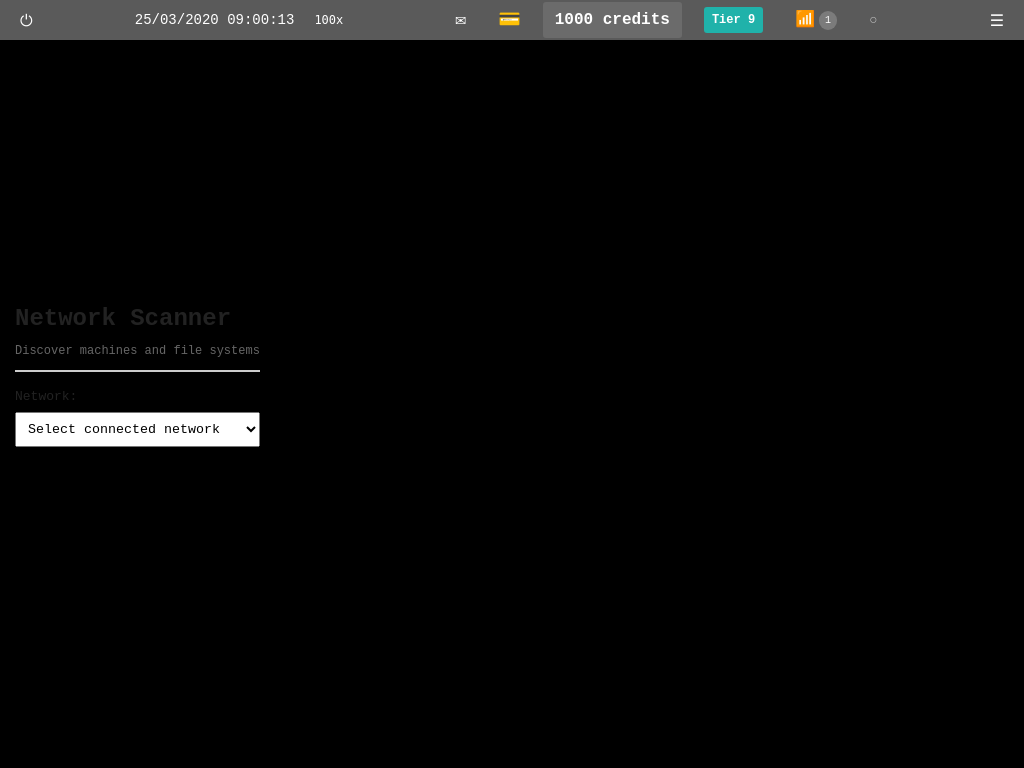
it: Network Scanner Integration › should discover devices from connected network
expect the text titled "Click to open Banking App" shows "credits": met, box [593,11,670,29]
expect the heading "Network Scanner" is shown: met, box [15,301,260,337]
# Select the network
Select "Corporate Network" in the dropdown labelled "Network:" at (137, 429), box [15,412,260,447]
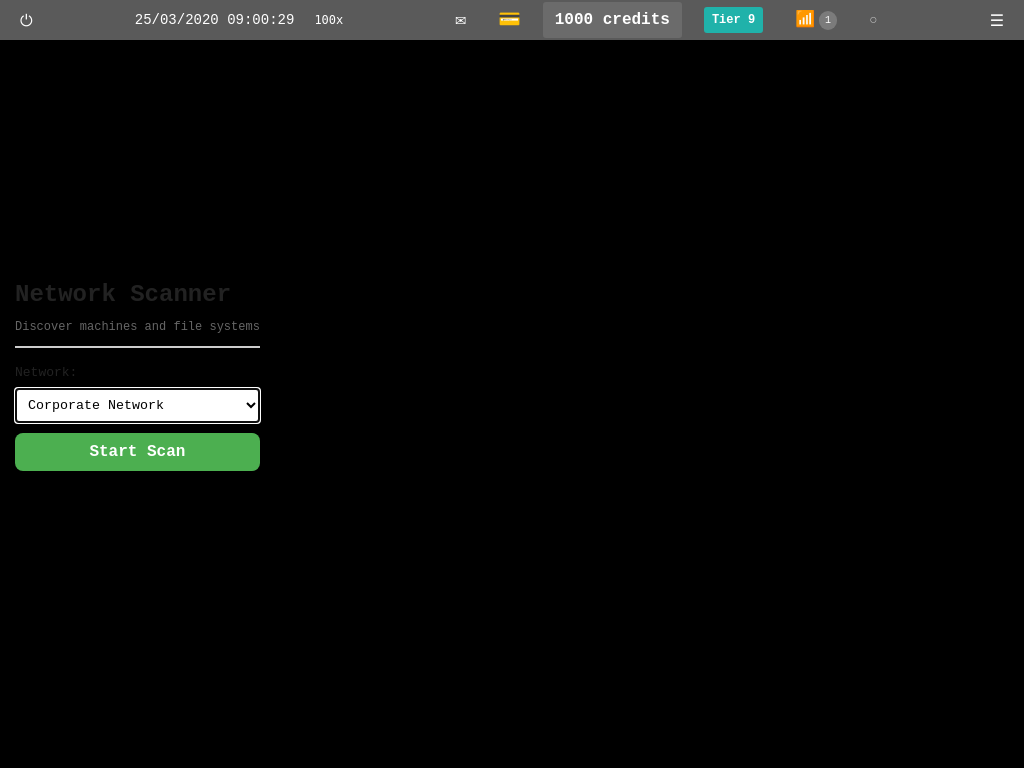
# Start scan
Click the button "Start Scan".
click(137, 452)  # box [15,433,260,471]
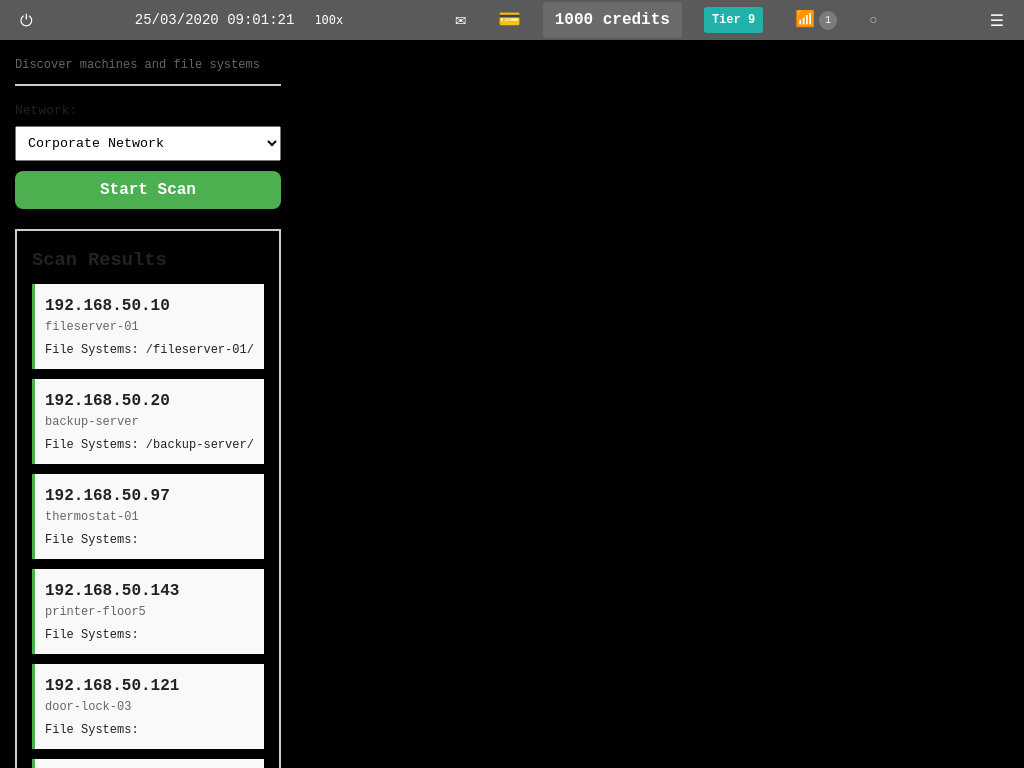
expect the button "scanning" is shown: met, box [15,170,281,208]
expect the heading "Scan Results" is shown: met, box [32,248,167,270]
expect the text "192.168.50.10" is shown: met, box [45,297,170,315]
